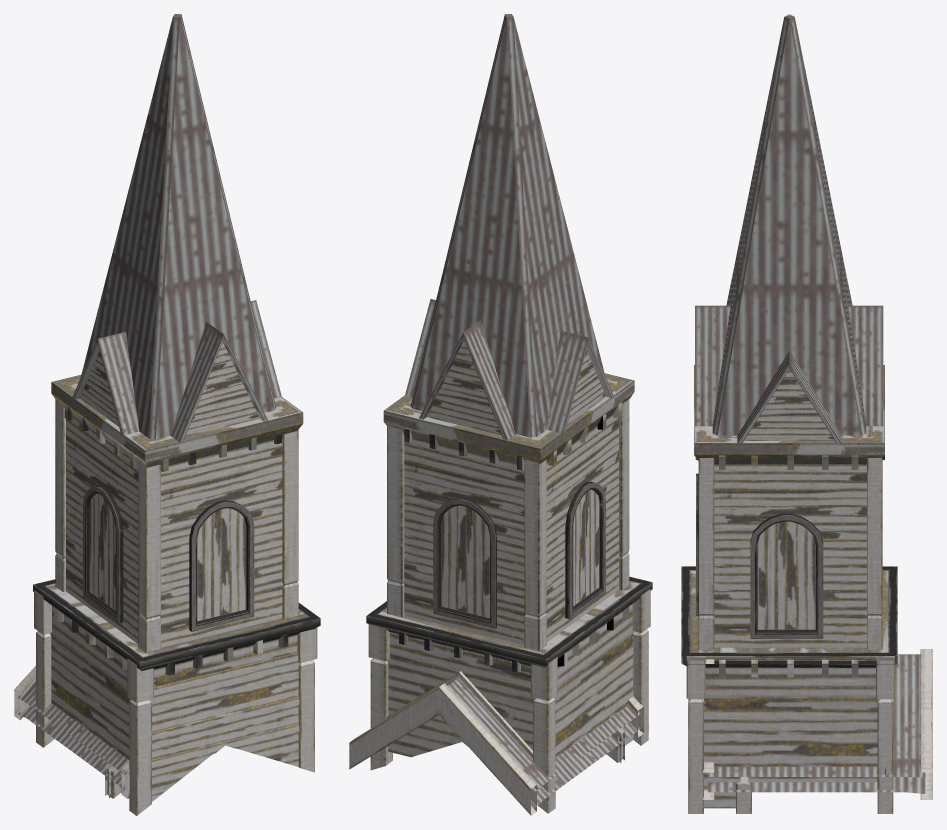
File: bell_tower.glb
3 views of the same model, side by side, from view 1: azimuth 30°, elevation 25°; view 2: azimuth 150°, elevation 25°; view 3: azimuth 270°, elevation 25° (orthographic).
Visible parts, largest first — view 1: Church1_End_A; view 2: Church1_End_A; view 3: Church1_End_A.
Boxes of the visible parts, x1,y1,x2,y2 form: Church1_End_A: (14, 14, 320, 815); Church1_End_A: (349, 14, 652, 815); Church1_End_A: (681, 14, 932, 813).
Bounding box in the file's own units: 2.9 × 11.29 × 3.41.
1 material, 1 textured.
